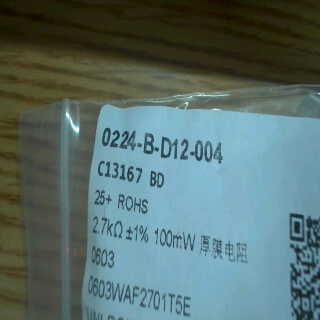2.7kR: (89, 214, 125, 241)
